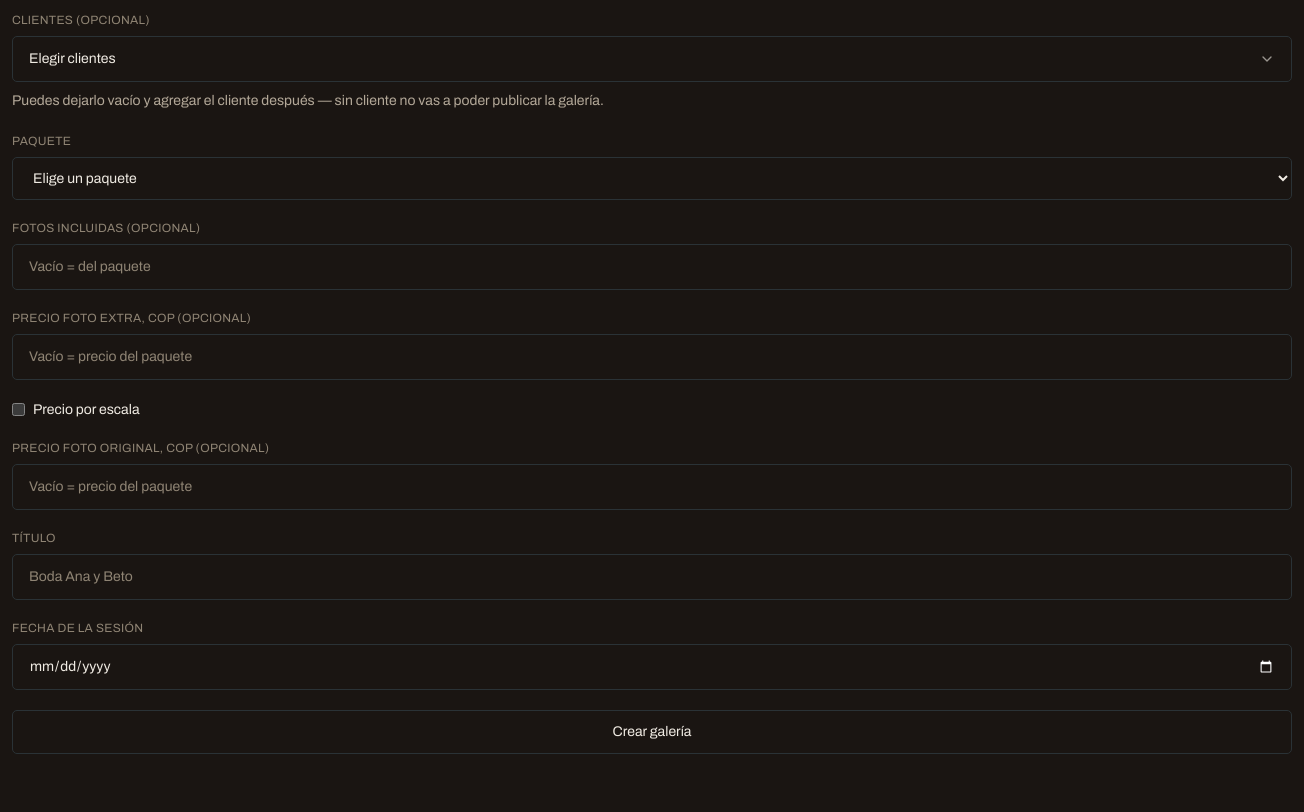
Test: GalleryForm › submits typed override values, including a literal 0, through the action
Select "Estándar · 13 fotos incluidas" in the dropdown labelled "Paquete": coordinates (652, 178) [12,157,1292,200]
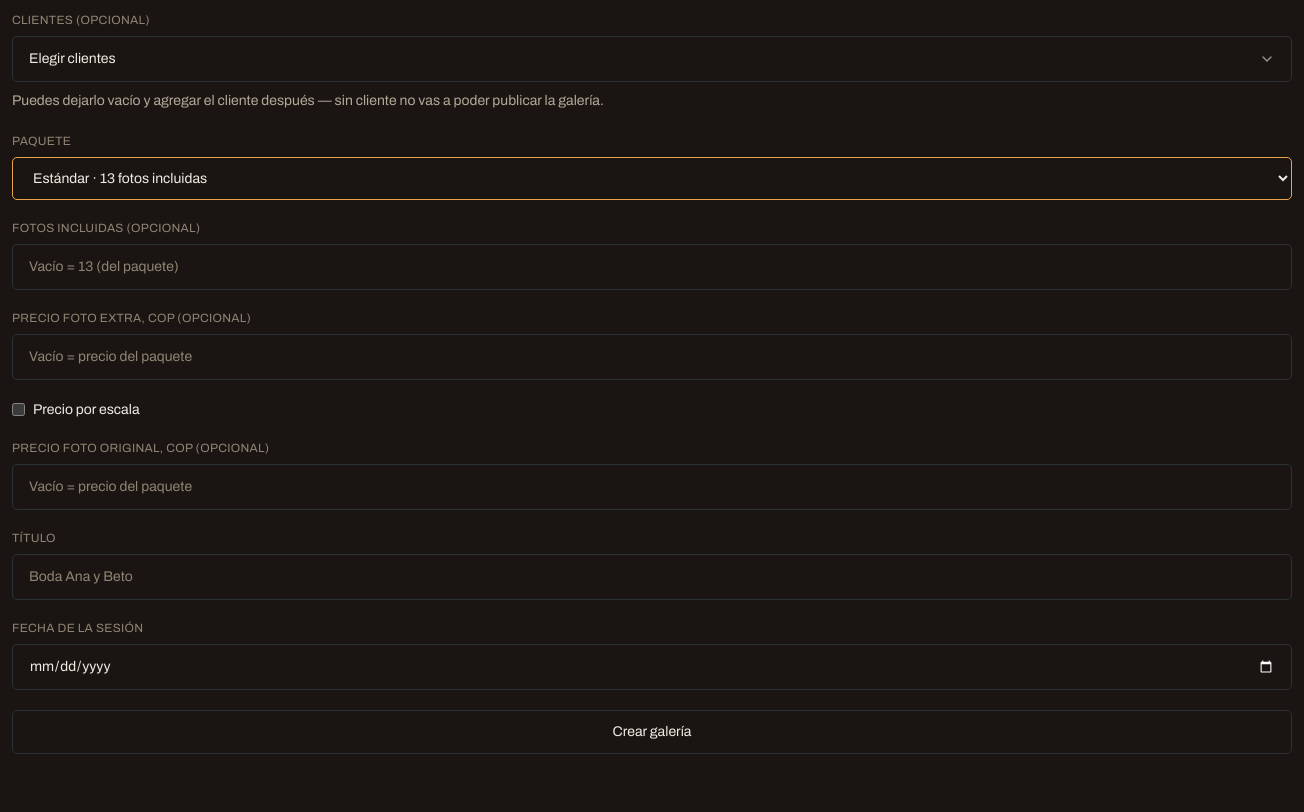
In the field labelled "Título": coordinates (652, 577) [12,554,1292,600], type "Boda con override"
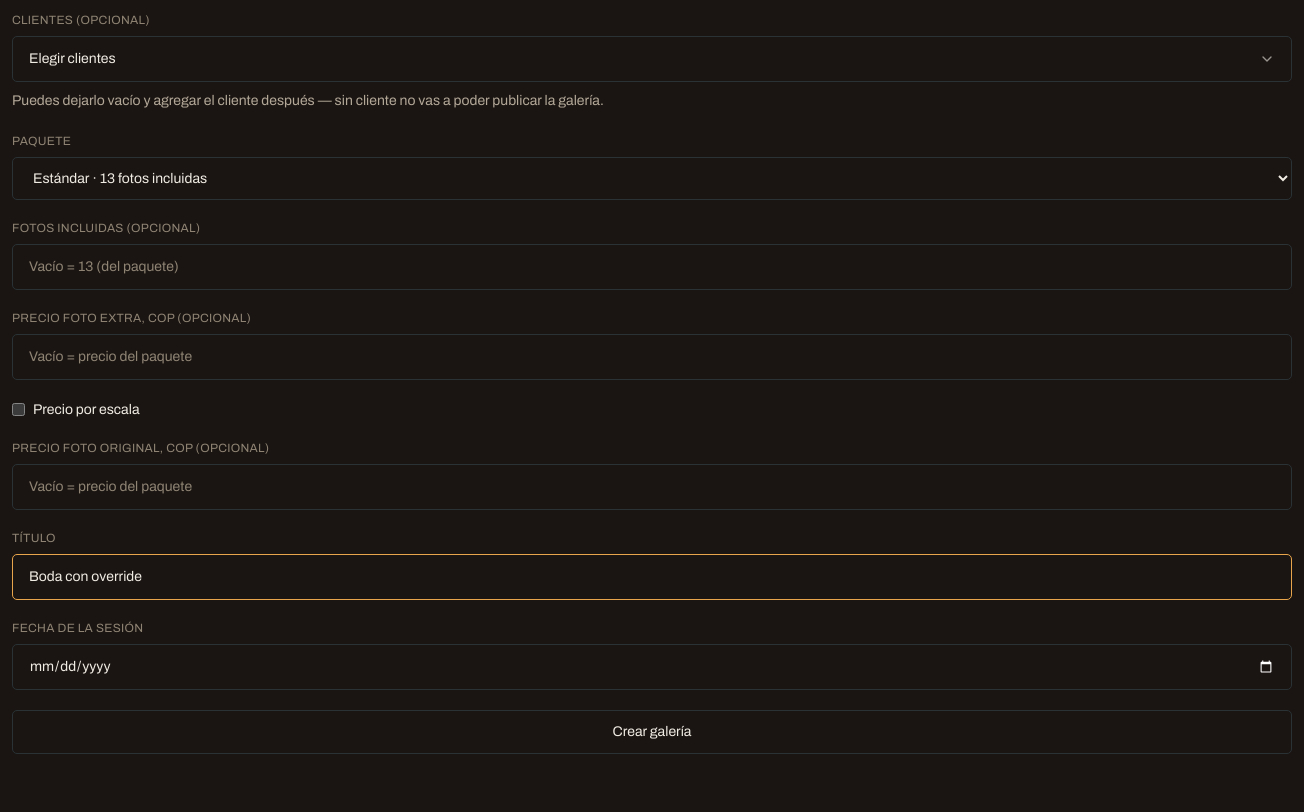
In the date field labelled "Fecha de la sesión": coordinates (652, 667) [12,644,1292,690], type "2026-08-01"
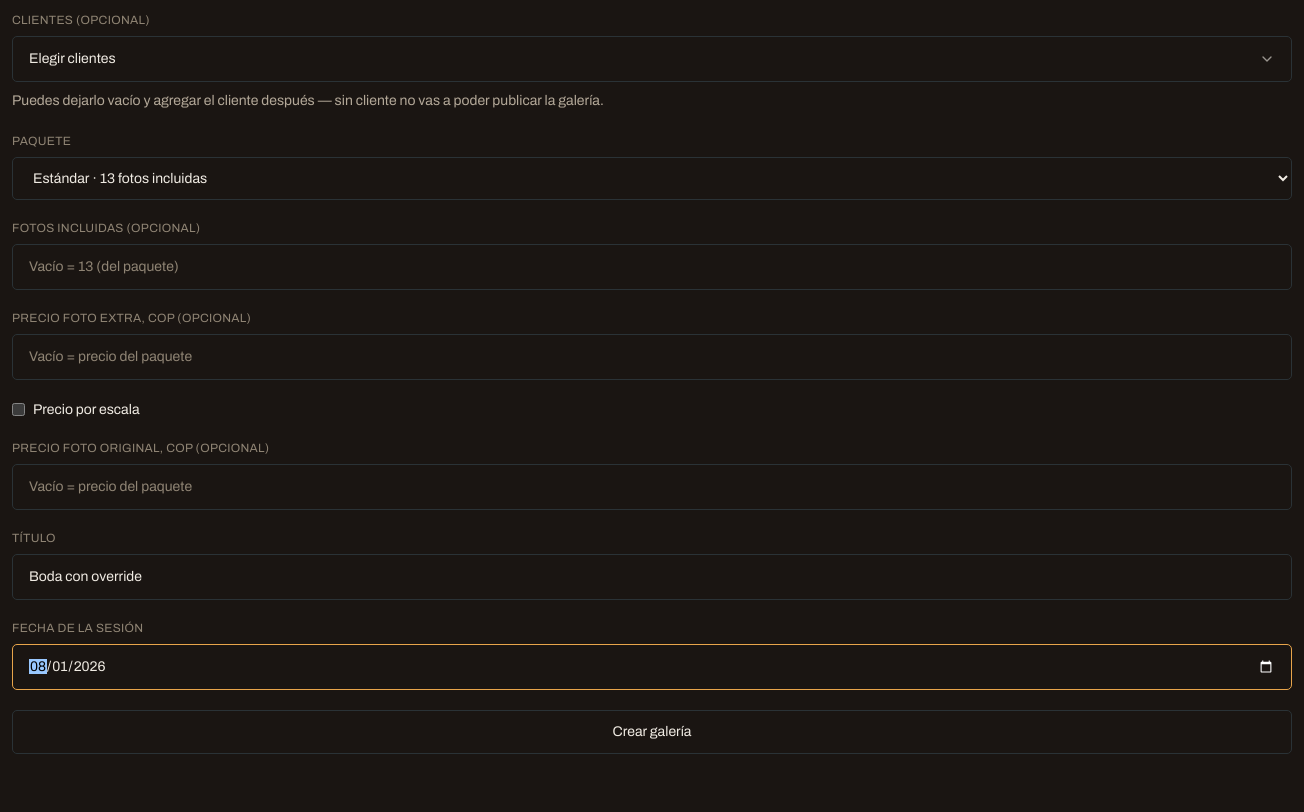
In the number field labelled "Fotos incluidas (opcional)": coordinates (652, 267) [12,244,1292,290], type "0"
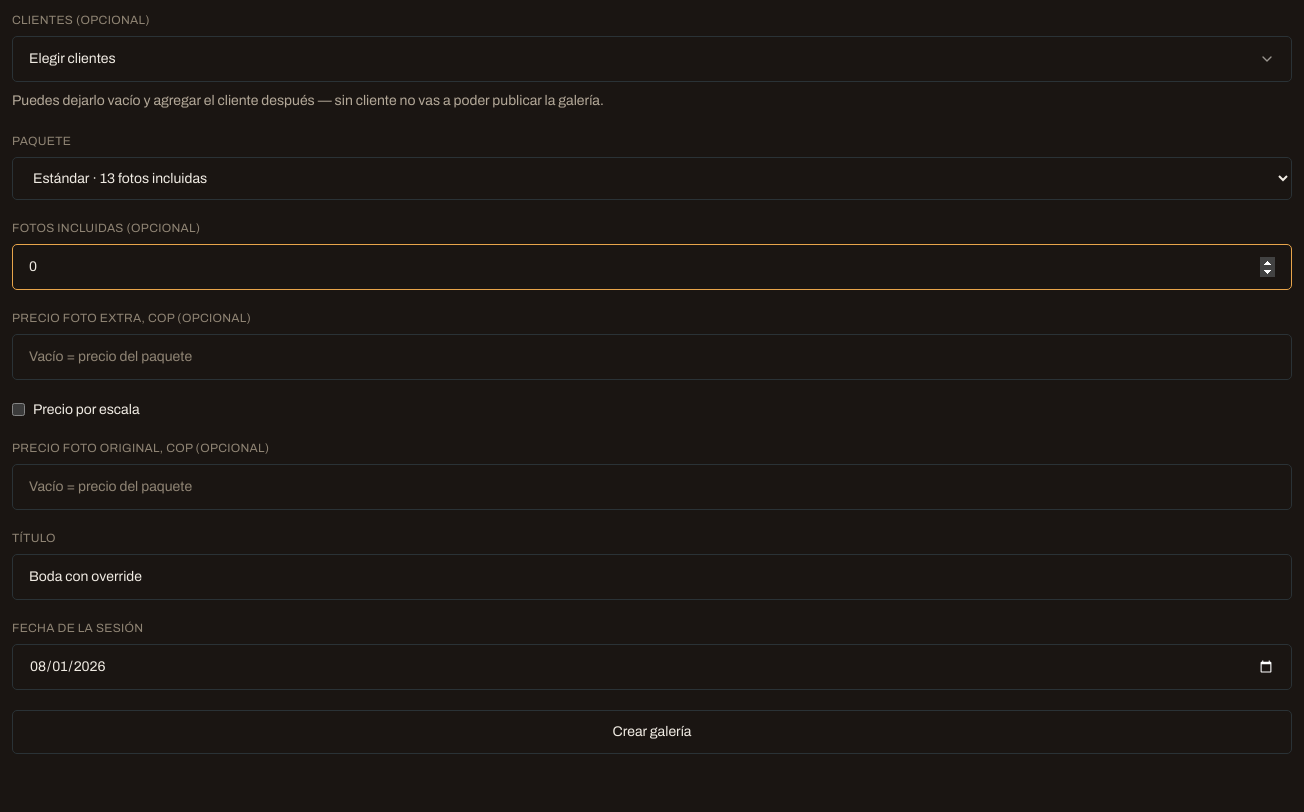
In the number field labelled "Precio foto extra, COP (opcional)": coordinates (652, 357) [12,334,1292,380], type "7000"
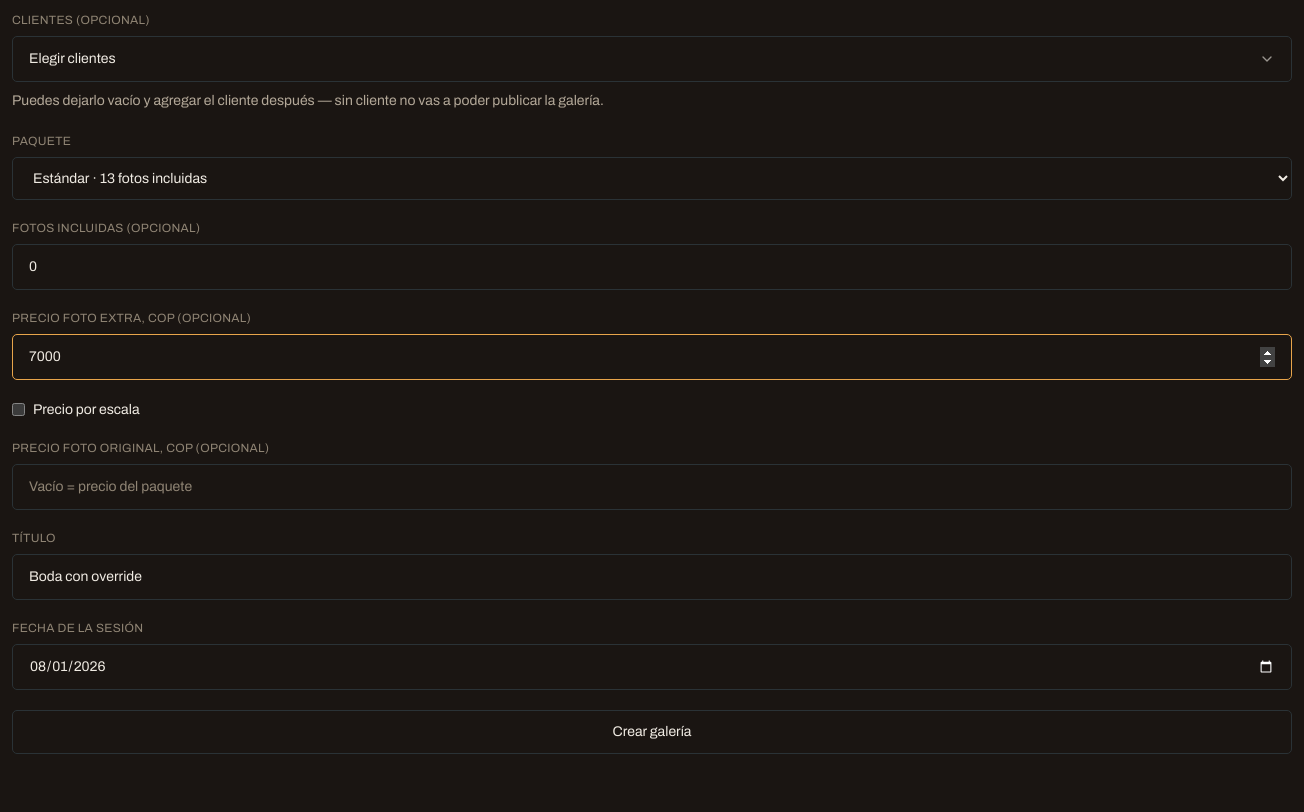
Click the button "Crear galería": coordinates (652, 732) [12,710,1292,754]
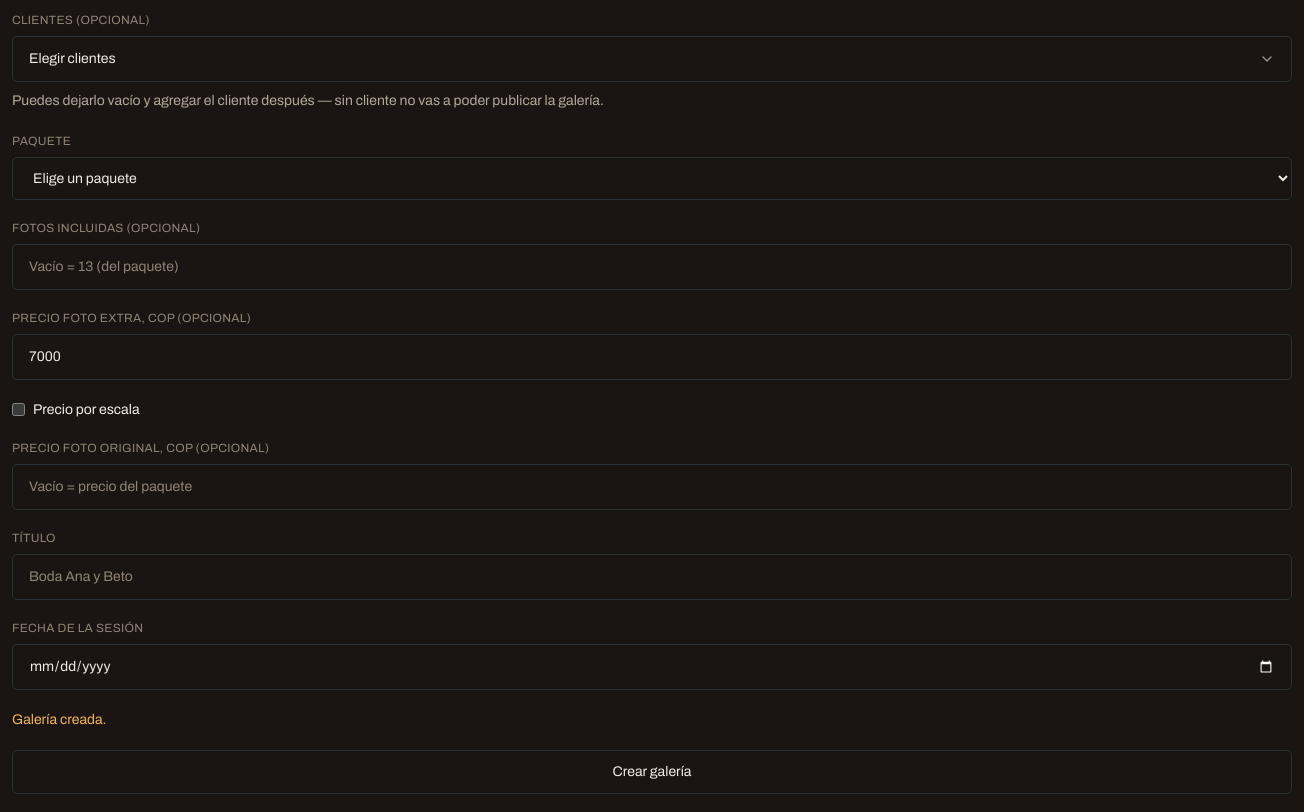
Expected: the text "Galería creada." is shown, [12,712,106,727]
